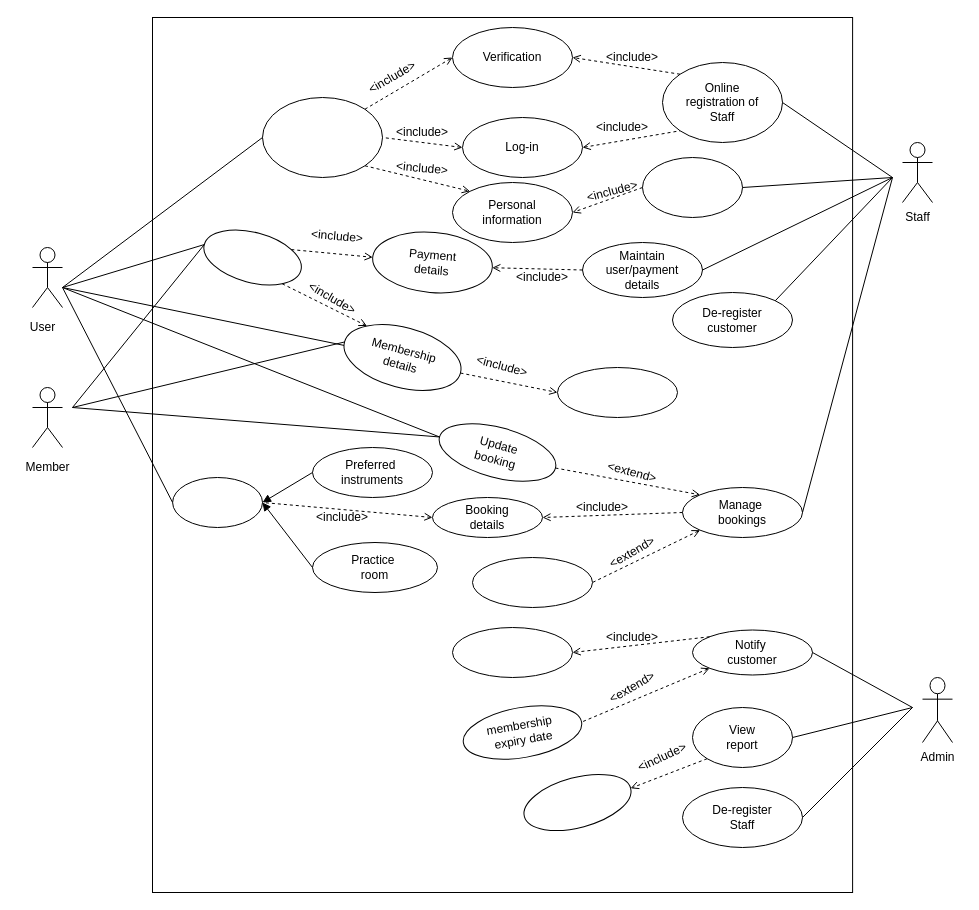
Image size: 979x910. Some labels were removed from this diagram. The centre of each missing label's shape, as x and y in pixels:
Booking: the point at 217,502
booking notifications: the point at 512,652
Cancel booking: the point at 532,582
Discount: the point at 617,392
Generate report: the point at 692,187
Online registration of Customer: the point at 322,137
Payment: the point at 252,257
Report details: the point at 577,802
